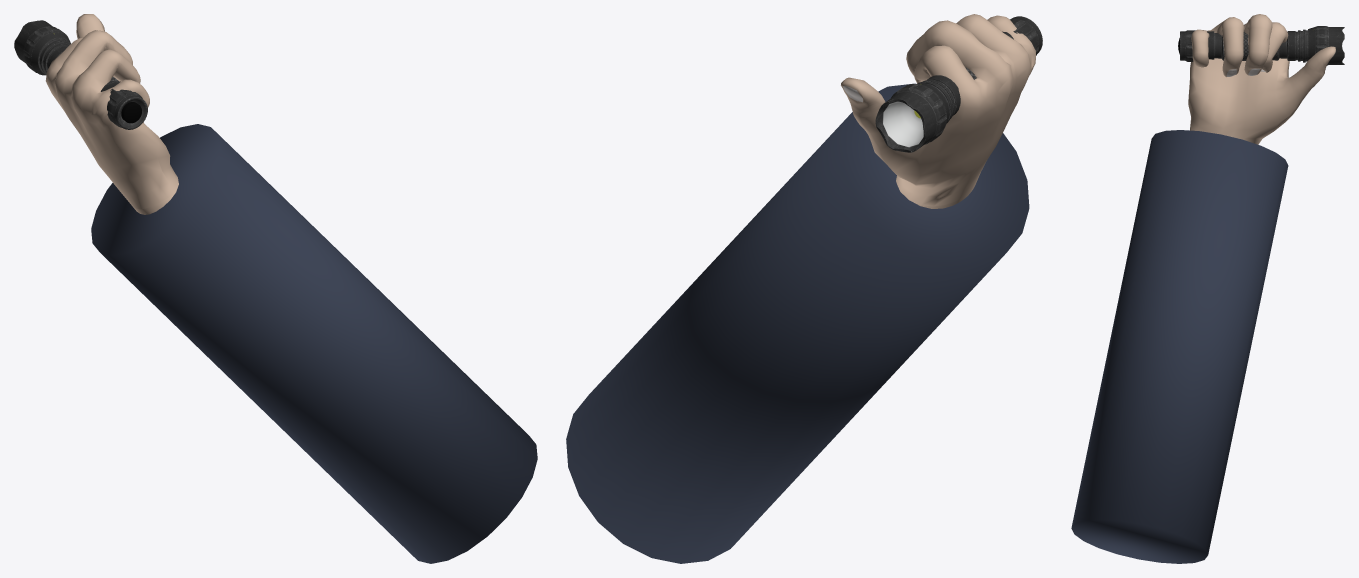
Rendered from viewmodel_flashlight.glb.
3 renders of one model, left to right at view 1: azimuth 30°, elevation 25°; view 2: azimuth 150°, elevation 25°; view 3: azimuth 270°, elevation 25°, orthographic. The views are drawn at different scales.
Visible parts, largest first — view 1: sleeve, Object_7, Botao_low_botao_0; view 2: sleeve, Object_7, Botao_low_botao_0; view 3: sleeve, Object_7, Botao_low_botao_0.
Boxes of the visible parts, x1=… form: sleeve: x1=91, y1=124, x2=537, y2=563; Object_7: x1=45, y1=14, x2=178, y2=214; Botao_low_botao_0: x1=14, y1=20, x2=147, y2=129; sleeve: x1=566, y1=83, x2=1029, y2=563; Object_7: x1=841, y1=14, x2=1035, y2=208; Botao_low_botao_0: x1=875, y1=16, x2=1042, y2=152; sleeve: x1=1071, y1=130, x2=1288, y2=563; Object_7: x1=1188, y1=14, x2=1335, y2=144; Botao_low_botao_0: x1=1178, y1=26, x2=1344, y2=65.
Size of the model in its own units: 0.4159 by 0.5267 by 0.2929.
Materials: 7 (3 with a texture image).
